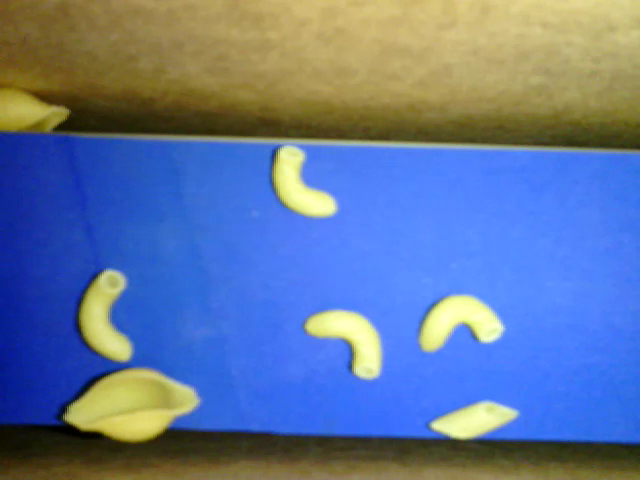elbow: (306, 307, 384, 381), (76, 267, 135, 364), (268, 141, 340, 219), (419, 292, 505, 355)
penne: (429, 397, 521, 439)
shell: (58, 361, 202, 440), (1, 85, 73, 131)
